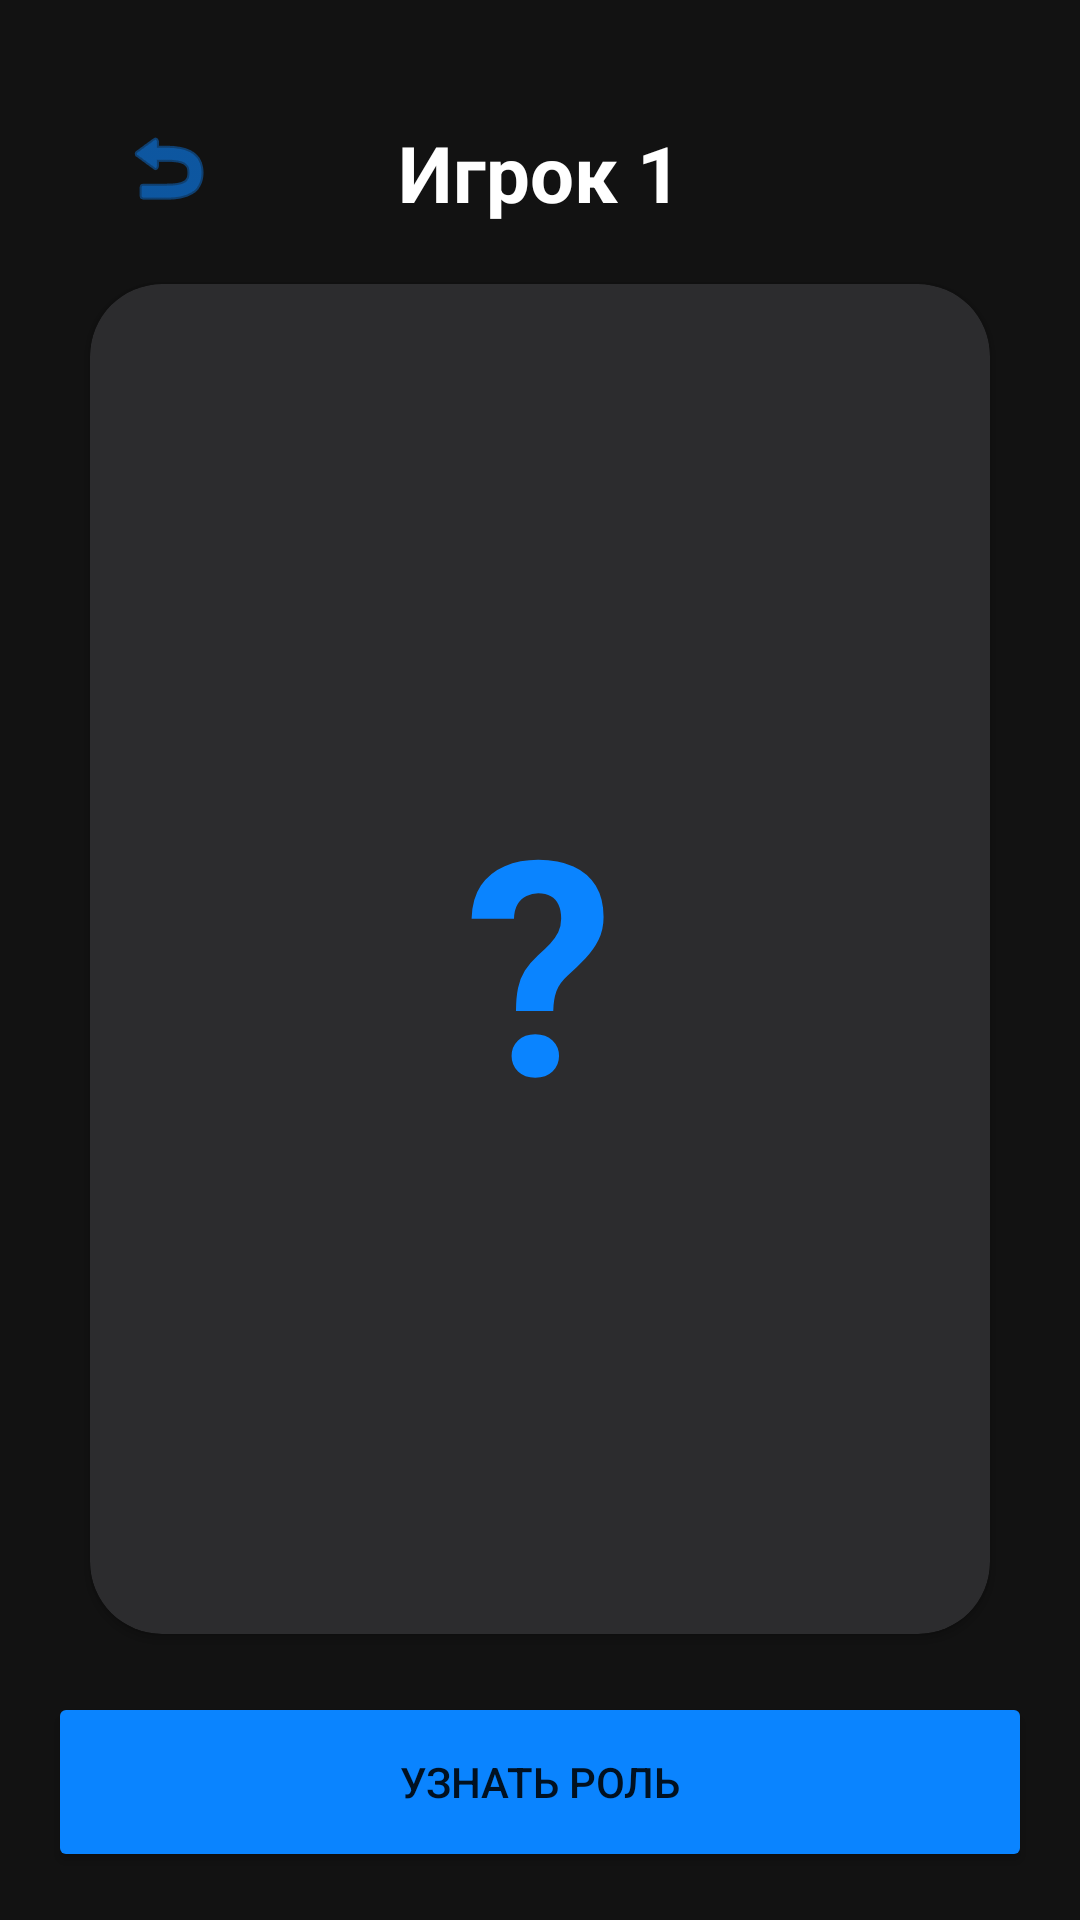

Icon click points for this 1080 × 1920 phone screenshot, format [x,y]:
revert: [169,168]
